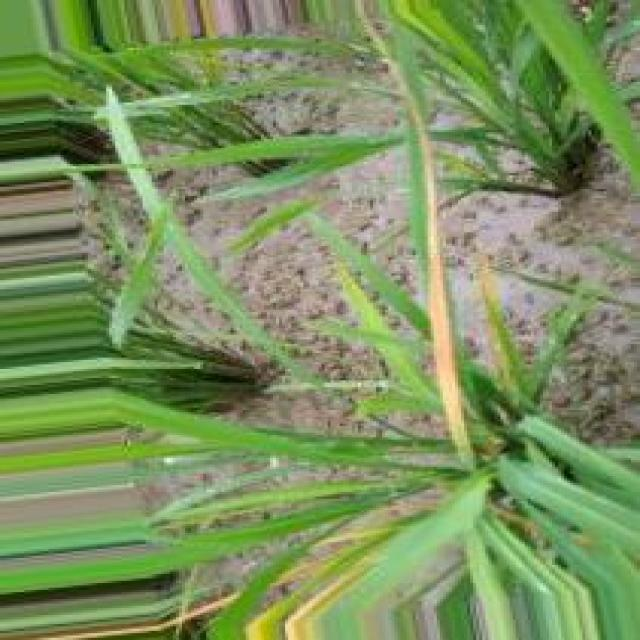Rice Tungro: (414, 109, 473, 468)
